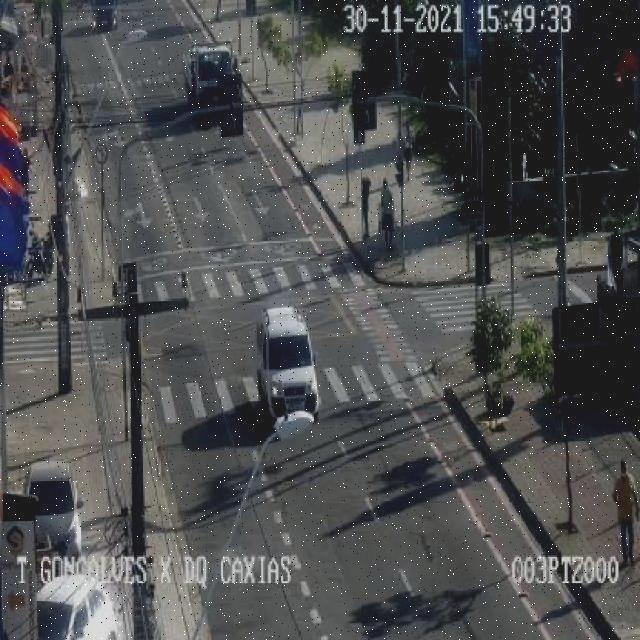Car: (257, 306, 320, 431), (36, 573, 126, 638), (24, 461, 83, 558), (88, 0, 120, 33)
Truck: (183, 43, 244, 131)
